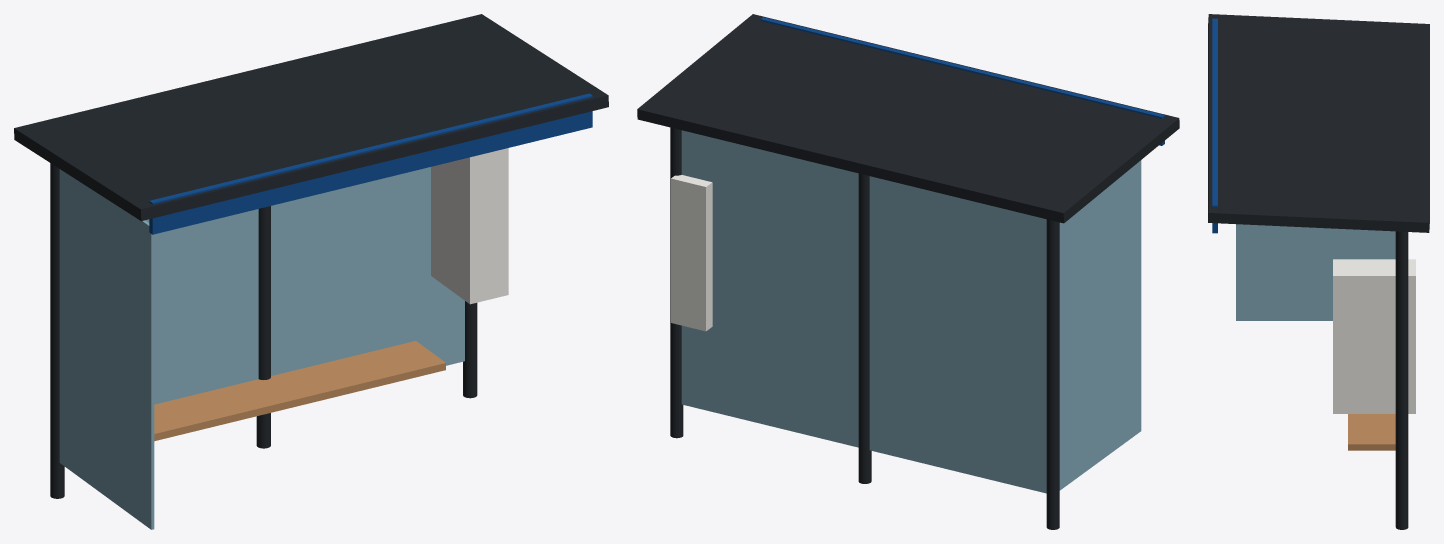
The model's file is tram-stop-shelter.glb.
The picture shows the model from 3 angles, left to right: view 1: azimuth 30°, elevation 25°; view 2: azimuth 150°, elevation 25°; view 3: azimuth 270°, elevation 25°; orthographic projection. The views are drawn at different scales.
Visible parts, largest first — view 1: Cube, Cube.002, Cube.003, Cube.001, Cube.005, Cube.004, Cube.006, Cylinder, Cylinder.001, Cylinder.002; view 2: Cube, Cube.001, Cube.002, Cube.003, Cube.005, Cylinder, Cylinder.001, Cylinder.002, Cube.006; view 3: Cube, Cube.003, Cube.005, Cylinder.002, Cube.004, Cube.006.
Part boxes in pixels (bbox=[...]): Cube: bbox=[14, 14, 608, 221]; Cube.002: bbox=[271, 167, 464, 375]; Cube.003: bbox=[59, 169, 154, 529]; Cube.001: bbox=[145, 209, 258, 404]; Cube.005: bbox=[431, 148, 508, 304]; Cube.004: bbox=[154, 341, 445, 441]; Cube.006: bbox=[149, 93, 592, 234]; Cylinder: bbox=[50, 163, 64, 498]; Cylinder.001: bbox=[256, 206, 270, 448]; Cylinder.002: bbox=[463, 301, 477, 398]; Cube: bbox=[637, 14, 1179, 223]; Cube.001: bbox=[869, 176, 1046, 493]; Cube.002: bbox=[681, 130, 858, 447]; Cube.003: bbox=[1059, 160, 1141, 490]; Cube.005: bbox=[671, 175, 712, 331]; Cylinder: bbox=[1046, 219, 1059, 529]; Cylinder.001: bbox=[858, 173, 871, 483]; Cylinder.002: bbox=[670, 127, 683, 438]; Cube.006: bbox=[760, 17, 1164, 145]; Cube: bbox=[1208, 14, 1429, 232]; Cube.003: bbox=[1236, 224, 1395, 320]; Cube.005: bbox=[1333, 259, 1415, 413]; Cylinder.002: bbox=[1395, 231, 1408, 529]; Cube.004: bbox=[1348, 414, 1395, 450]; Cube.006: bbox=[1212, 18, 1217, 233].
Bounding box in the file's own units: 3.4 × 2.61 × 1.6.
